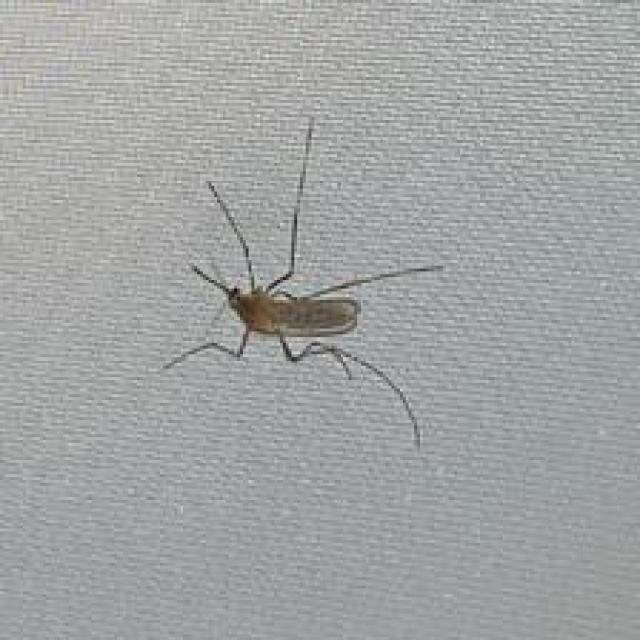Culex: (162, 114, 447, 452)
